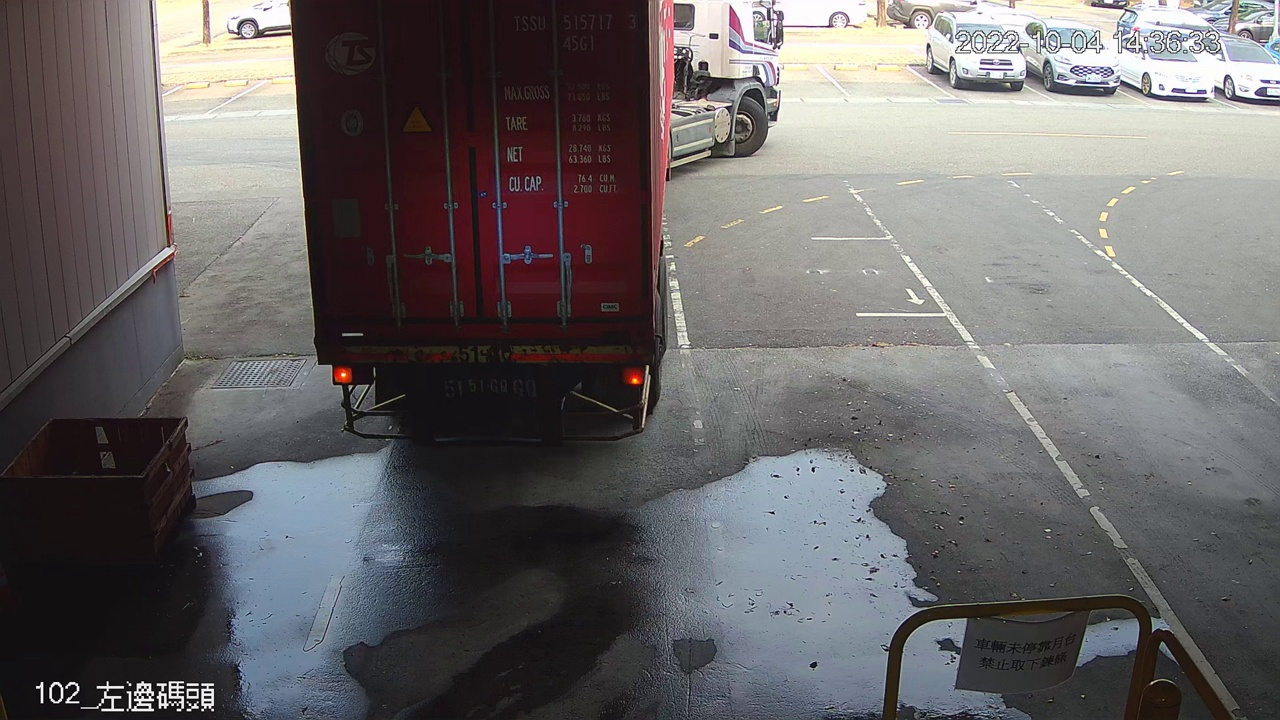container: (507, 7, 642, 58)
